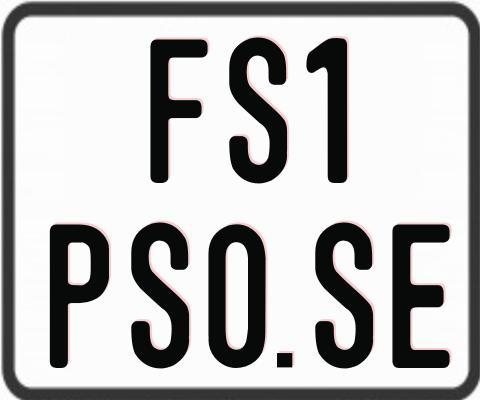0: (208, 224, 270, 371)
1: (305, 35, 348, 181)
E: (389, 224, 452, 371)
F: (147, 36, 210, 182)
P: (50, 224, 111, 370)
S: (128, 222, 191, 373), (314, 221, 378, 369), (227, 35, 287, 181)
